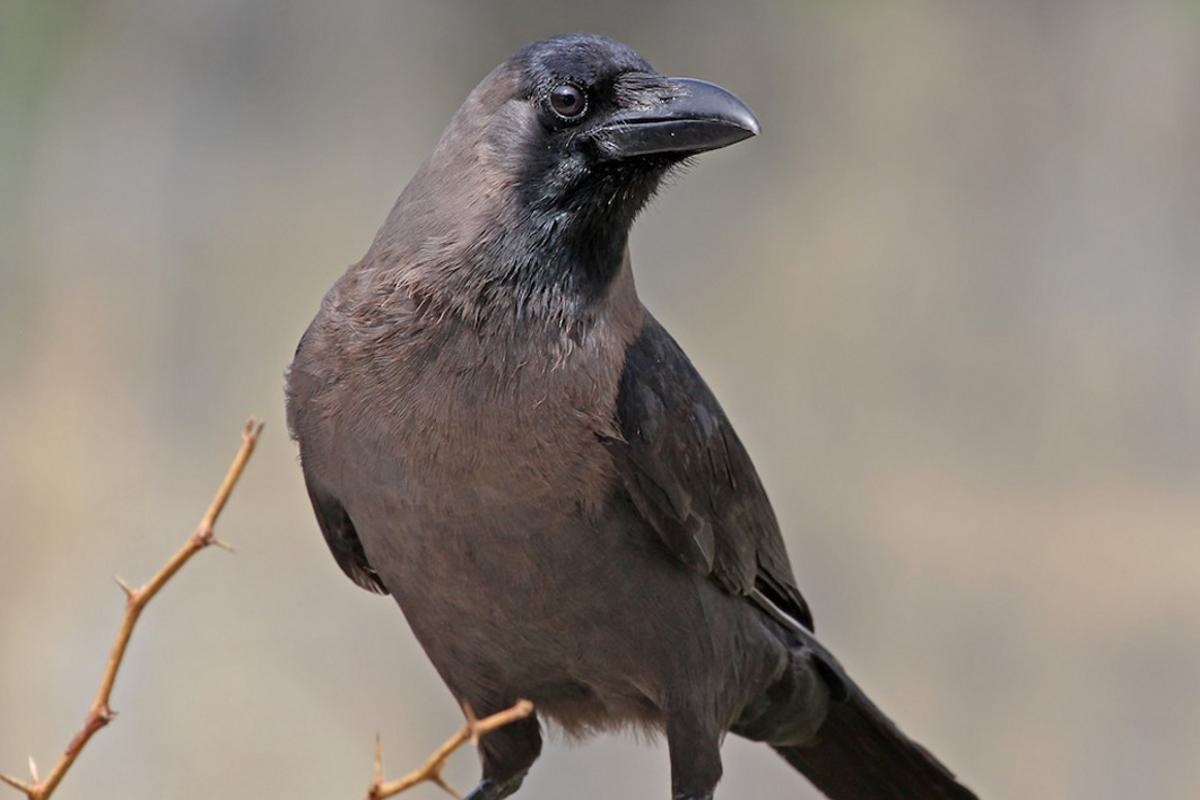crow: (284, 25, 957, 800)
